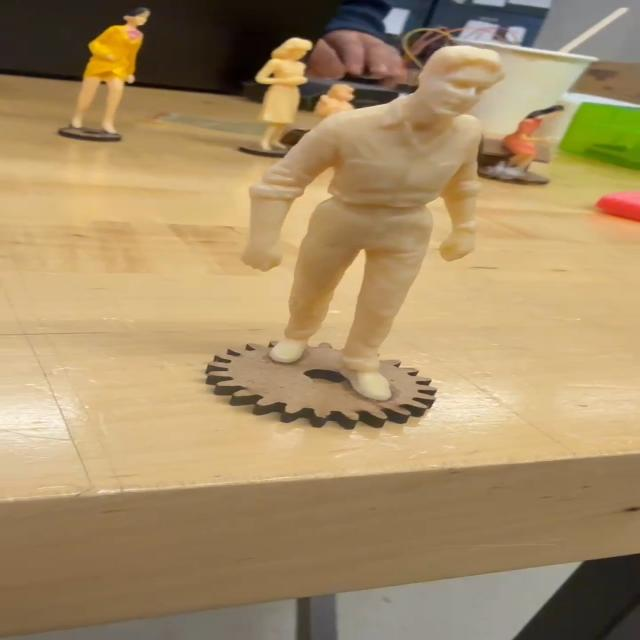Unauthorized: (234, 37, 529, 407)
